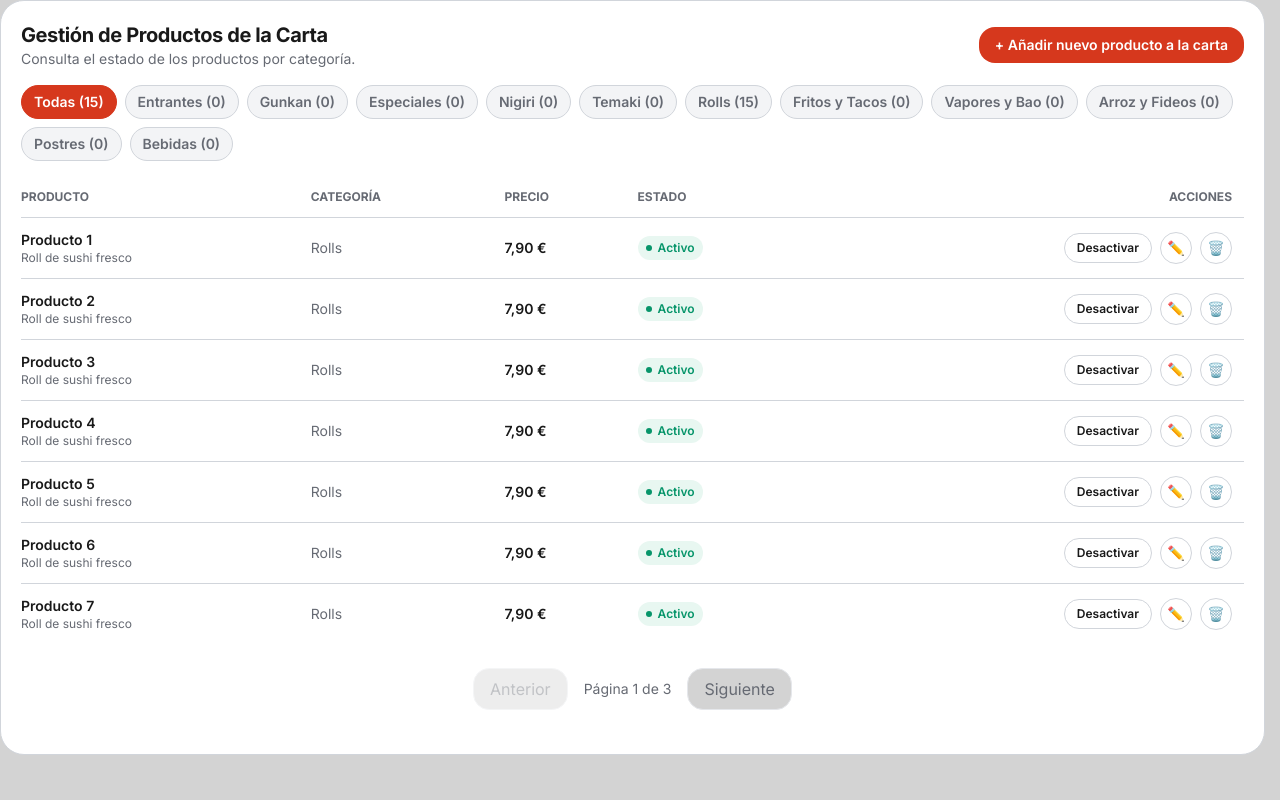
Test: AdminProductsPanel › pagination › goes back to the first page when changing the category
This screenshot has width=1280, height=800.
What coordinates should you click on to do the following:
click the button "Siguiente"
I would click on:
 (740, 689)
Its box is [688,668,792,710].
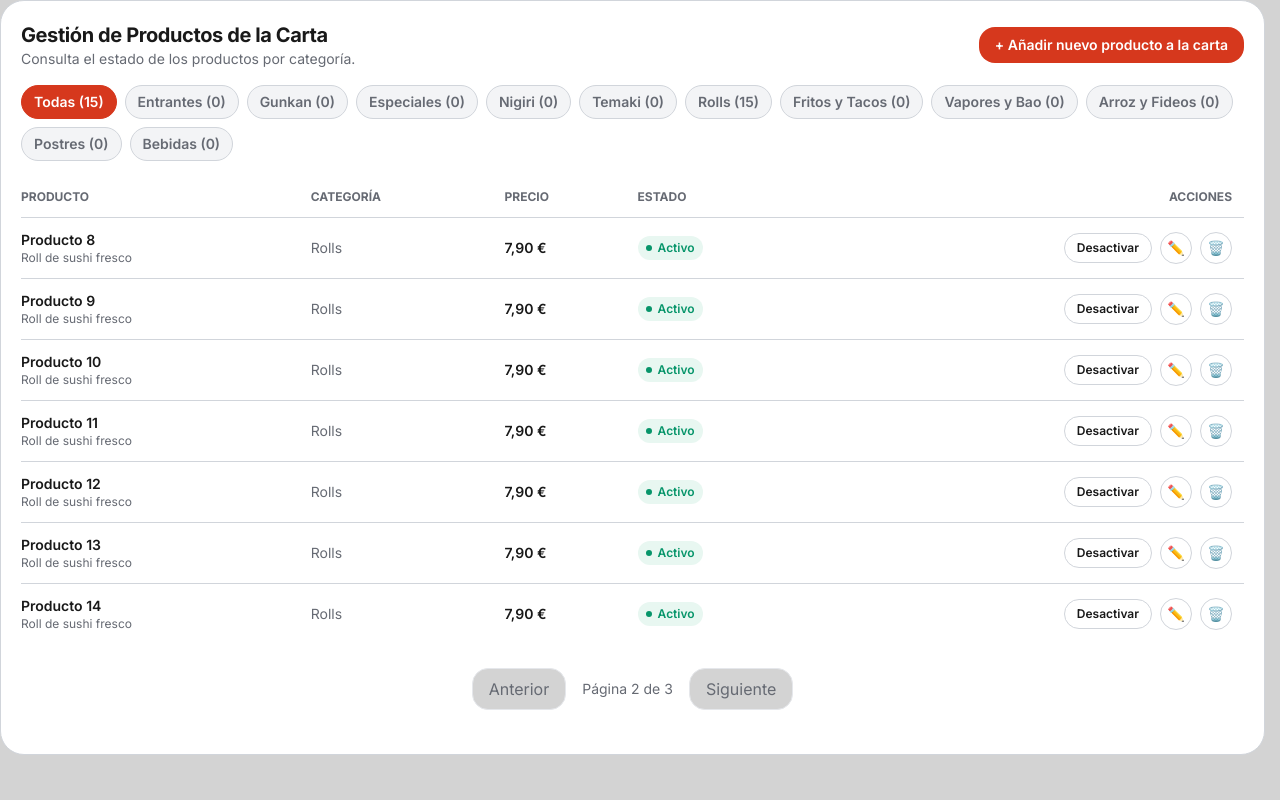
What coordinates should you click on to do the following:
click the button with class "category-filters__button" showing "Todas (15)"
I would click on:
 (69, 102)
Its box is [21,85,117,119].
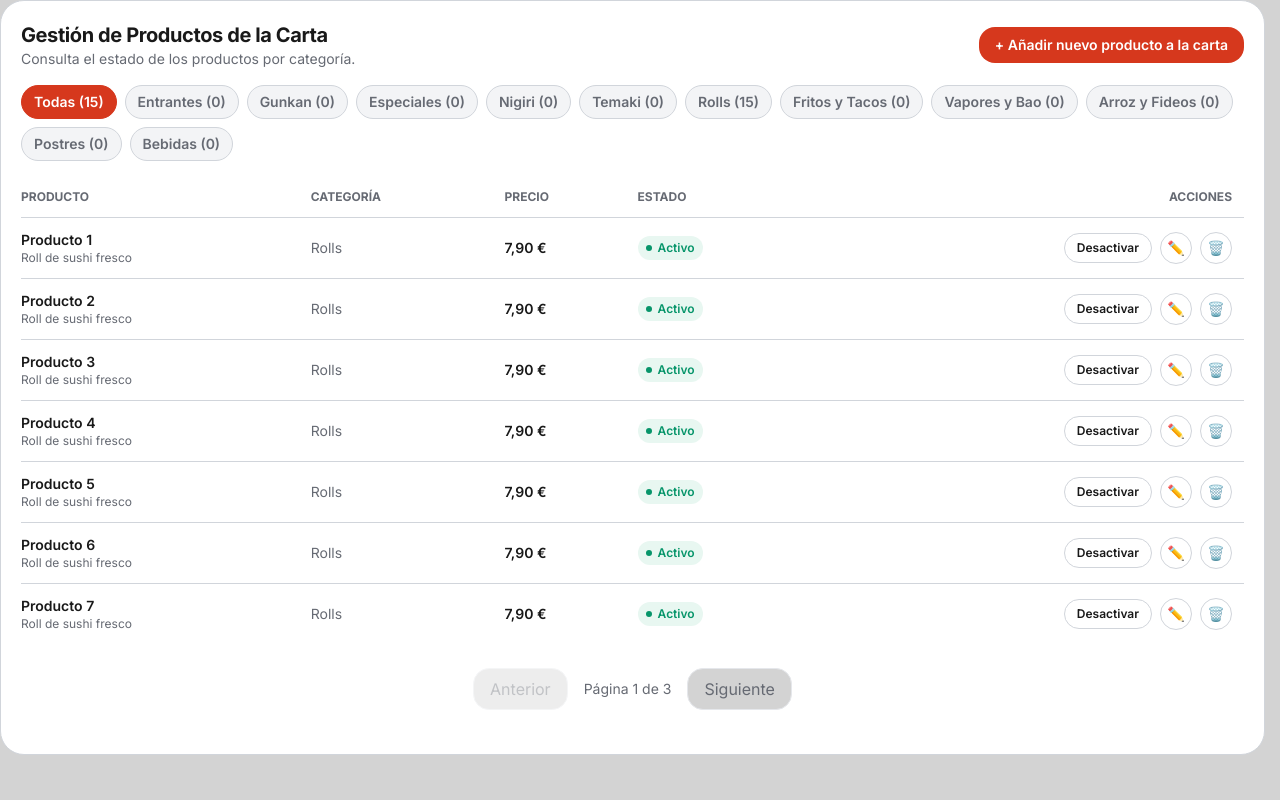
expect the text "Página 1 de 3" is shown: met, box [584,679,671,699]
